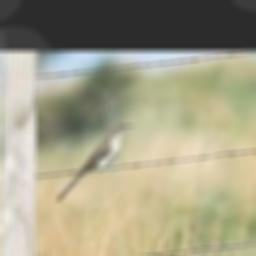Cuckoo: (57, 122, 136, 201)
